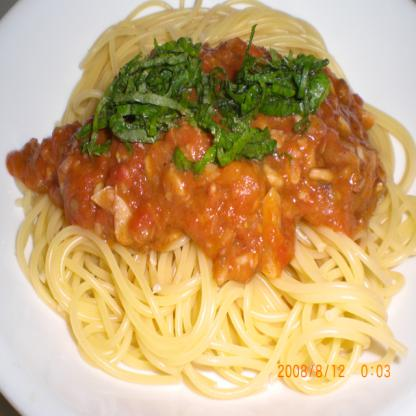pasta: (24, 3, 413, 398)
